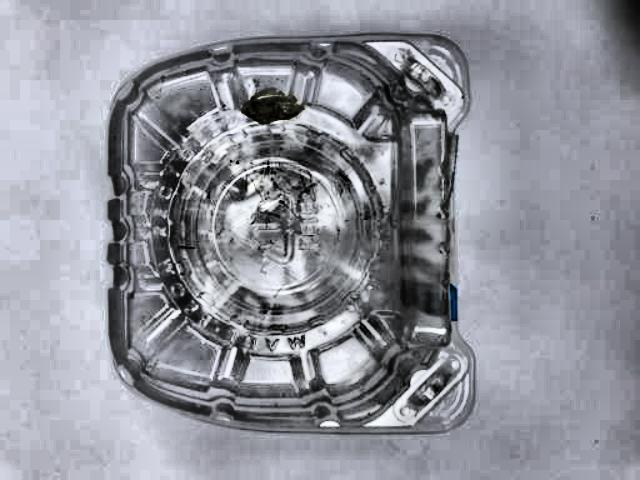Plastic: (86, 29, 487, 432)
